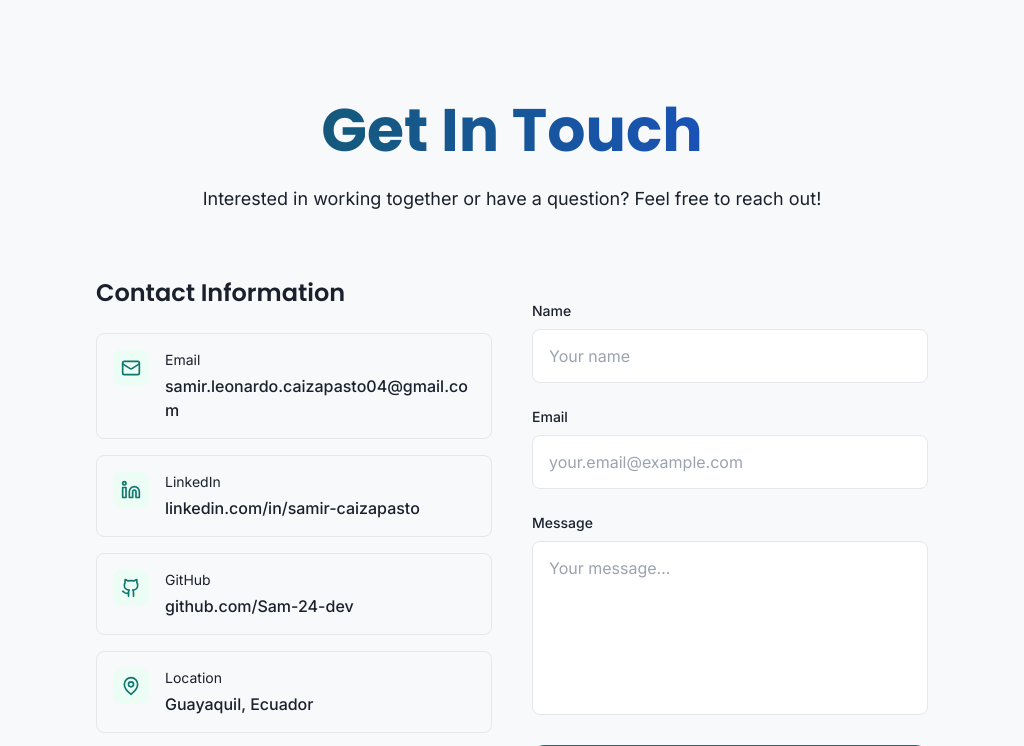
Test: Contact form › shows an error when the contact API fails and tracks the failure without PII
The width and height of the screenshot is (1024, 746).
Type "Samir" into the field labelled "Name" at {"x": 730, "y": 356}, box x1=532 y1=329 x2=928 y2=383
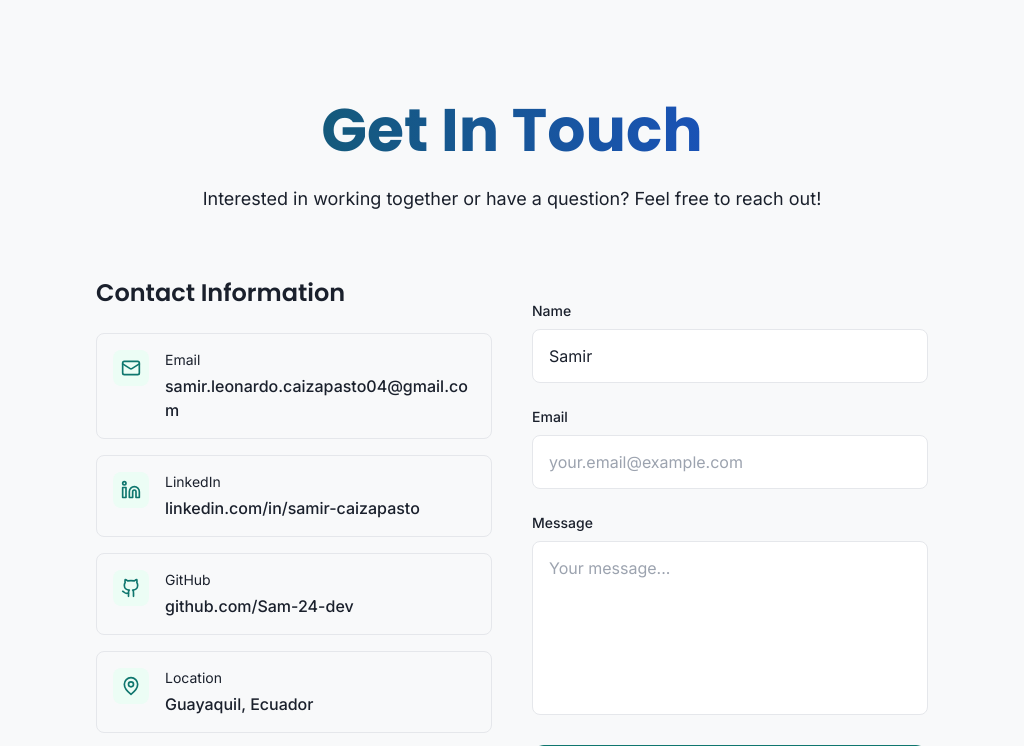
Type "samir@example.com" into the field labelled "Email" at {"x": 730, "y": 462}, box x1=532 y1=435 x2=928 y2=489
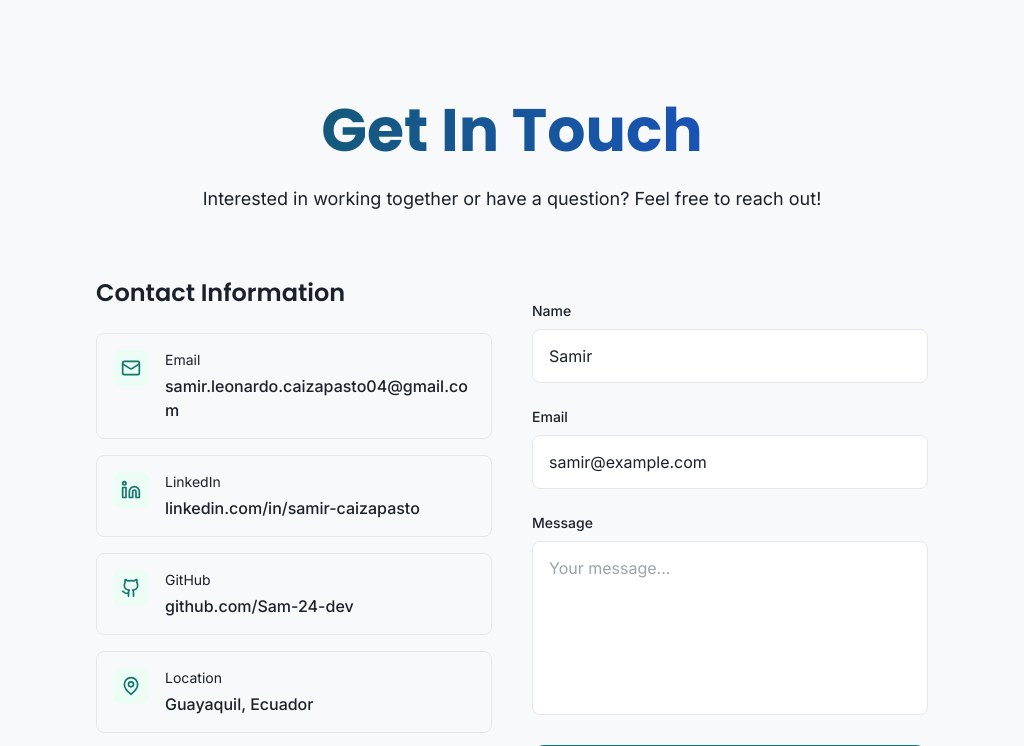
Type "Hello there. I would like to discuss an analyst opportunity." into the text box labelled "Message" at {"x": 730, "y": 628}, box x1=532 y1=541 x2=928 y2=715
(page scrolled)
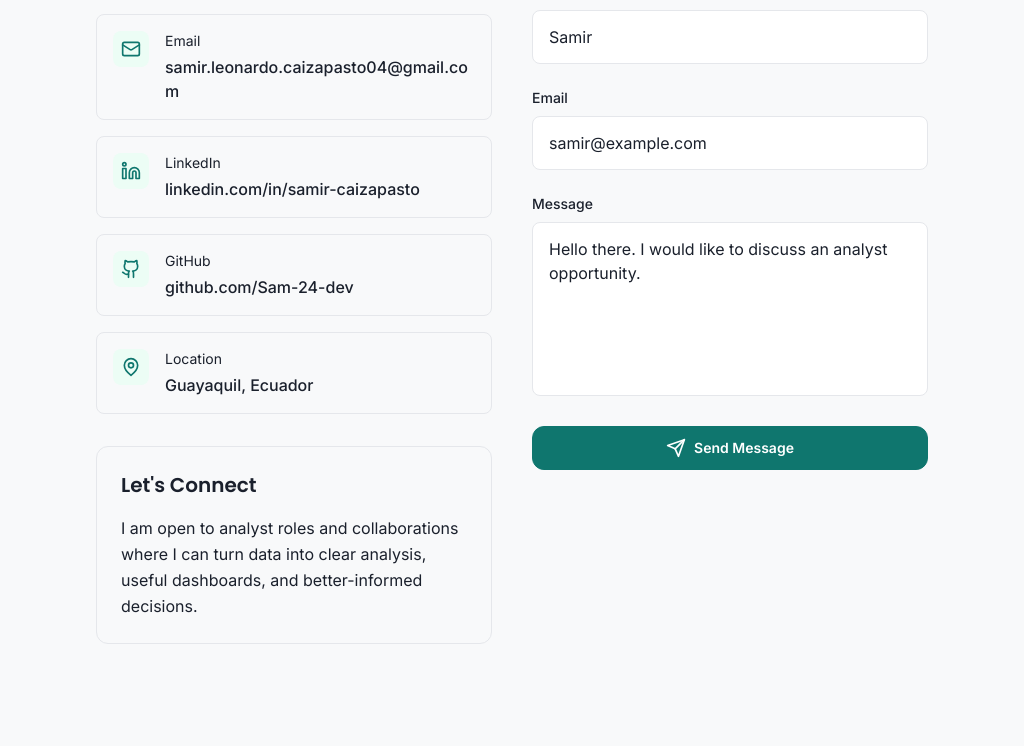
Click the button "Send Message" at {"x": 730, "y": 448}, box x1=532 y1=426 x2=928 y2=470
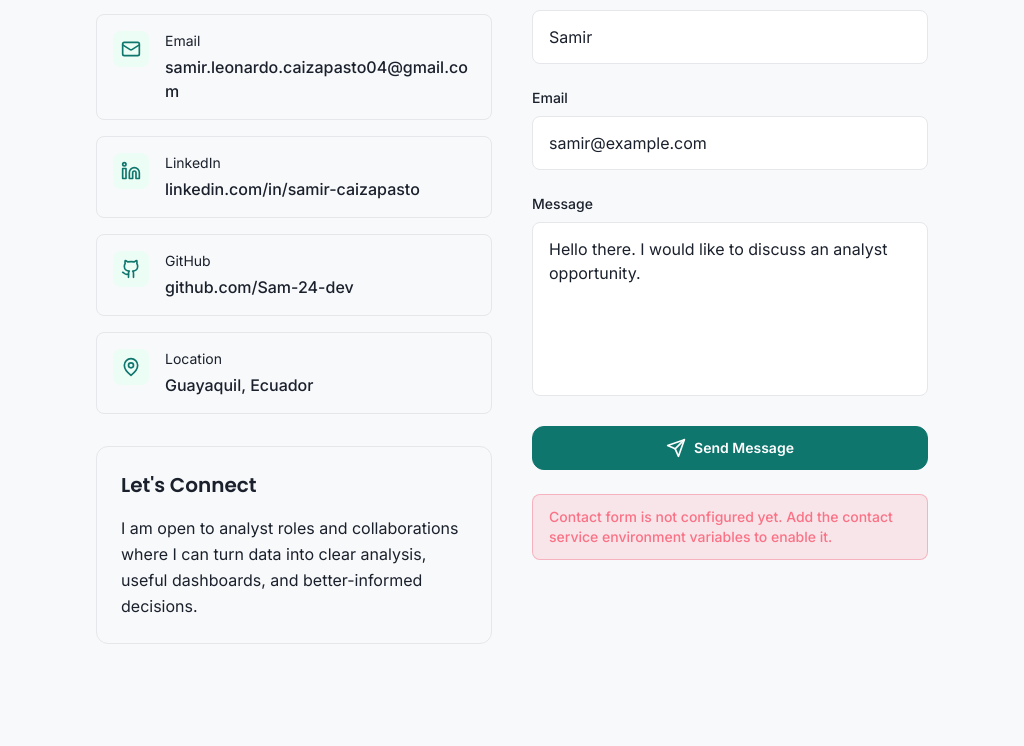
Expected: the text "Contact form is not configured yet. Add the contact service environment variables to enable it." is shown, x1=549 y1=508 x2=893 y2=545
